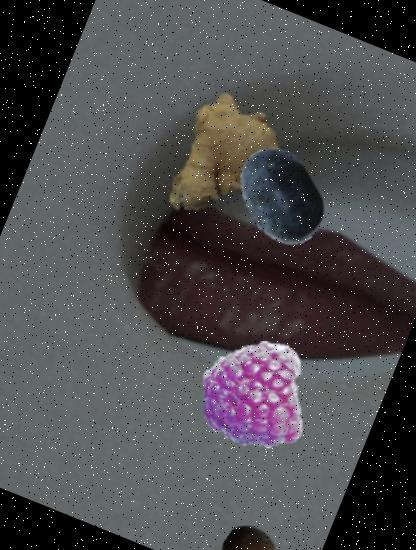Blueberry: (213, 130, 347, 264)
Ginger: (130, 72, 304, 246)
Nut: (213, 518, 282, 550)
Raspberry: (181, 325, 322, 466)
